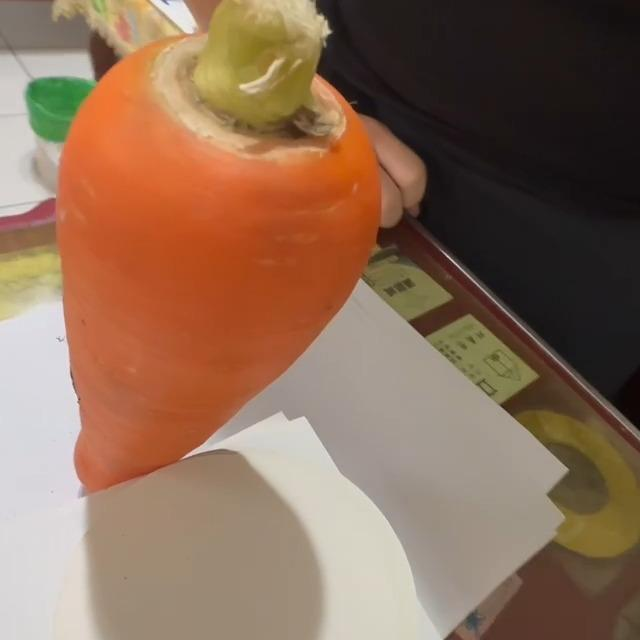carrot: (49, 1, 384, 490)
